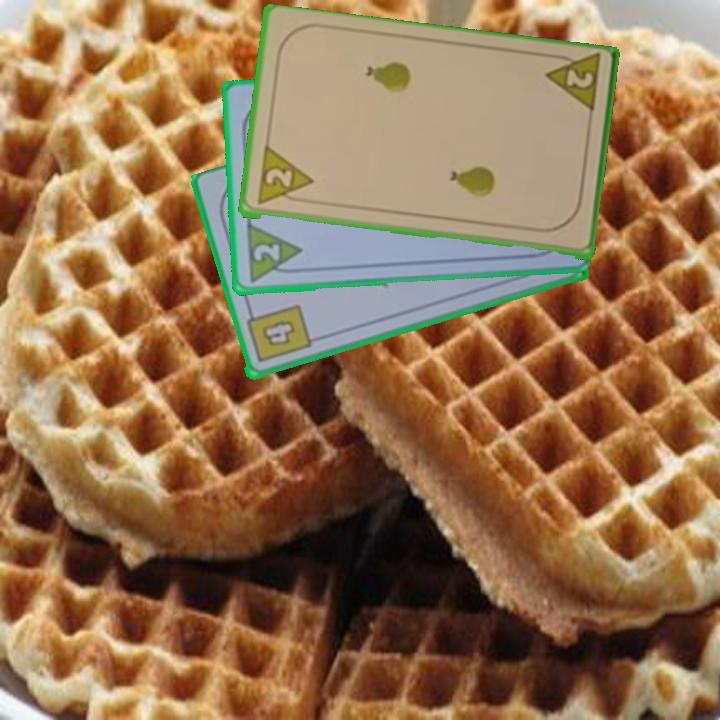2p: (541, 51, 603, 119), (242, 221, 305, 286), (252, 145, 316, 208)
4b: (242, 301, 314, 366)
